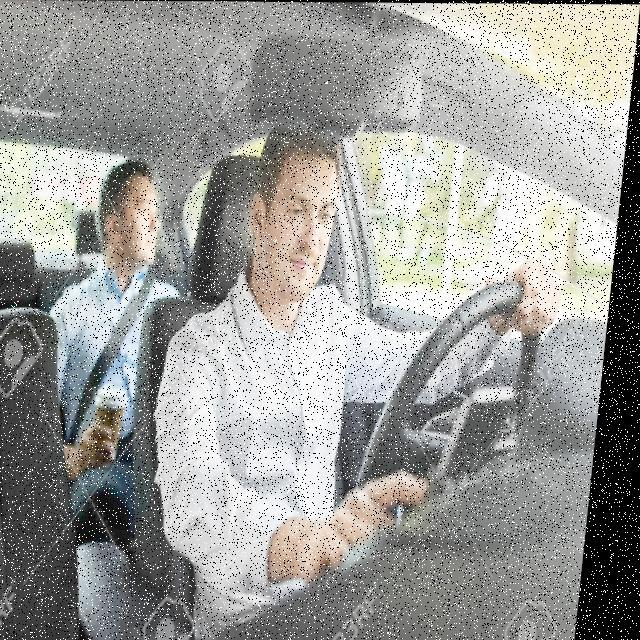noSeatbelt: (157, 269, 404, 615)
seatbelt: (68, 258, 164, 454)
